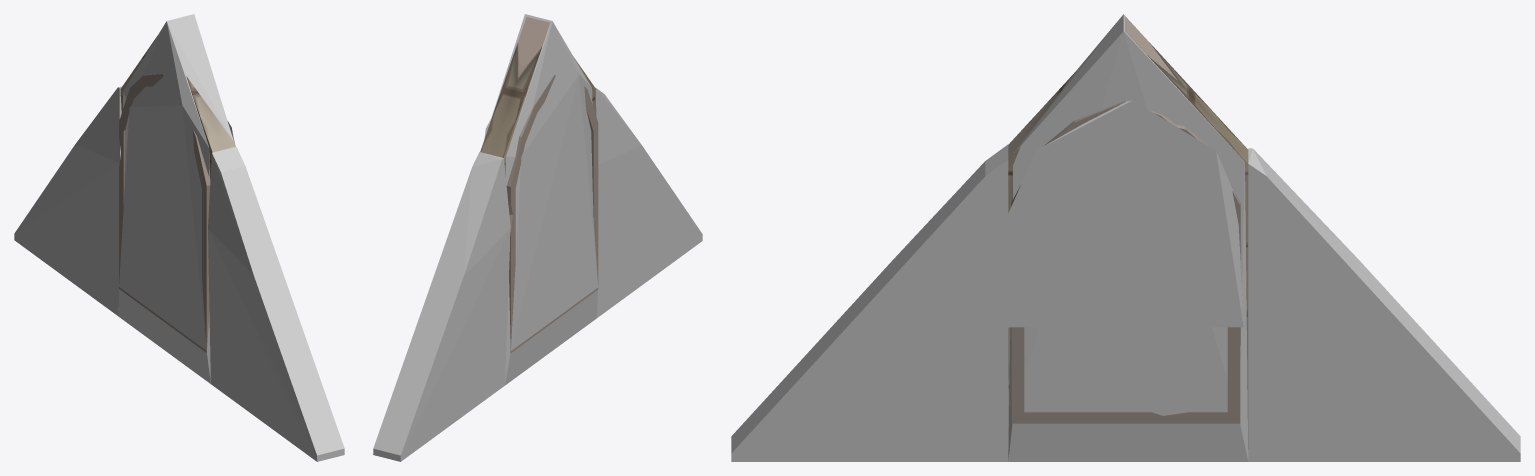
Rendered from SM_Bld_Wall_End_Straight_Large_Window_01.fbx.
3 views of the same model, side by side, from view 1: azimuth 30°, elevation 25°; view 2: azimuth 150°, elevation 25°; view 3: azimuth 270°, elevation 25° (orthographic). The views are drawn at different scales.
Visible parts, largest first — view 1: SM_Bld_Wall_End_Straight_Large_Window_01_ConvexHulls, SM_Bld_Wall_End_Straight_Large_Window_01; view 2: SM_Bld_Wall_End_Straight_Large_Window_01_ConvexHulls, SM_Bld_Wall_End_Straight_Large_Window_01; view 3: SM_Bld_Wall_End_Straight_Large_Window_01_ConvexHulls, SM_Bld_Wall_End_Straight_Large_Window_01.
Part boxes in pixels (left/top/right/bottom): SM_Bld_Wall_End_Straight_Large_Window_01_ConvexHulls: left=14, top=14, right=344, bottom=461; SM_Bld_Wall_End_Straight_Large_Window_01: left=119, top=37, right=235, bottom=352; SM_Bld_Wall_End_Straight_Large_Window_01_ConvexHulls: left=373, top=14, right=702, bottom=461; SM_Bld_Wall_End_Straight_Large_Window_01: left=480, top=17, right=598, bottom=352; SM_Bld_Wall_End_Straight_Large_Window_01_ConvexHulls: left=731, top=14, right=1520, bottom=461; SM_Bld_Wall_End_Straight_Large_Window_01: left=1008, top=17, right=1248, bottom=447.
Bounding box in the file's own units: 36.65 × 503 × 303.
Materials: 3 (2 with a texture image).
